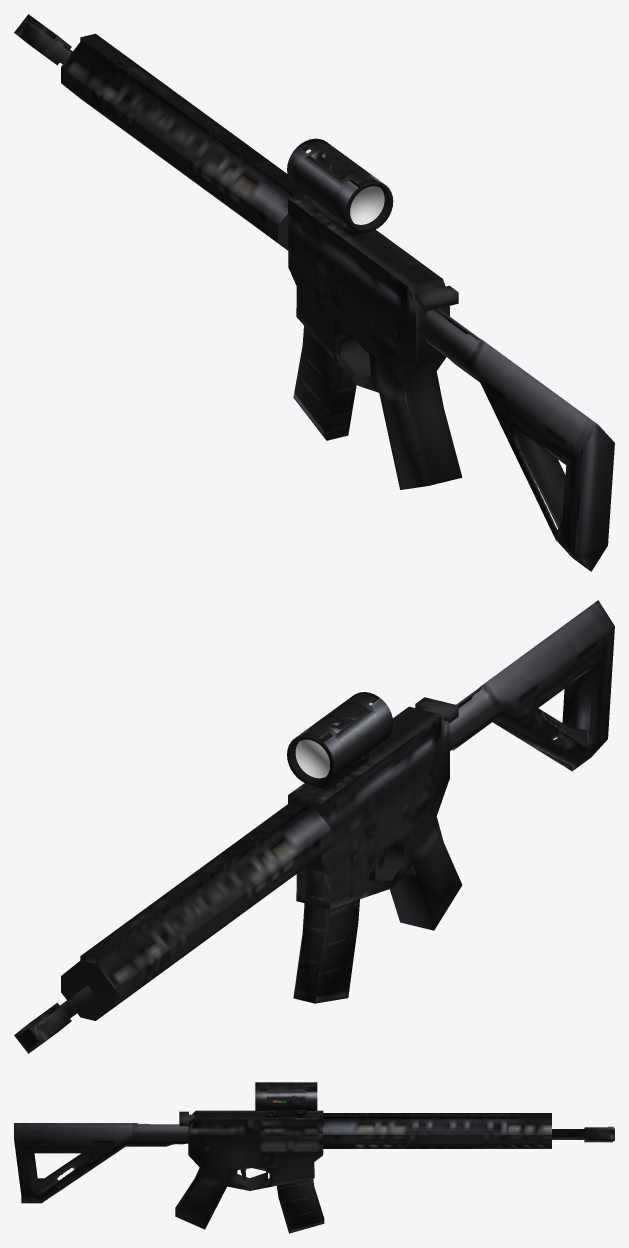
The picture shows the model from 3 angles, top to bottom: view 1: azimuth 30°, elevation 25°; view 2: azimuth 150°, elevation 25°; view 3: azimuth 270°, elevation 25°; orthographic projection. The views are drawn at different scales.
Parts seen in each view (by area): view 1: Cube.002; view 2: Cube.002; view 3: Cube.002.
Part boxes in pixels (x1=…): Cube.002: x1=14, y1=14, x2=614, y2=571; Cube.002: x1=14, y1=600, x2=614, y2=1053; Cube.002: x1=14, y1=1082, x2=614, y2=1233.
Size of the model in its own units: 13 by 63.79 by 236.
Materials: 2 (1 with a texture image).
